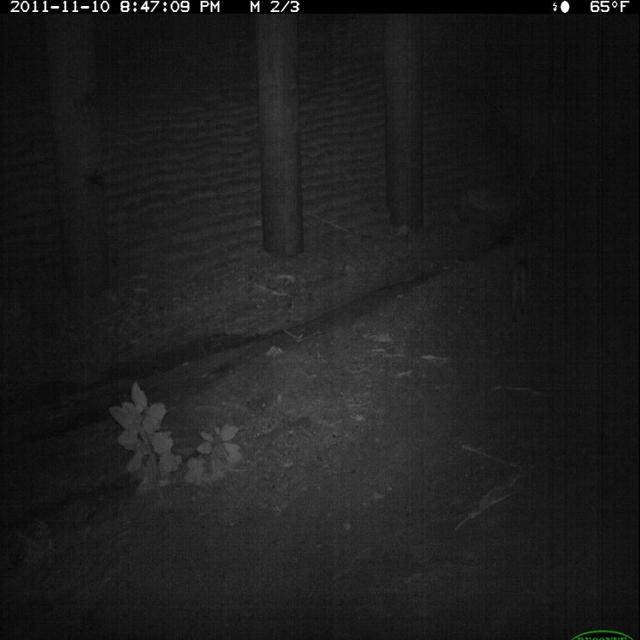bobcat: (506, 242, 544, 331)
